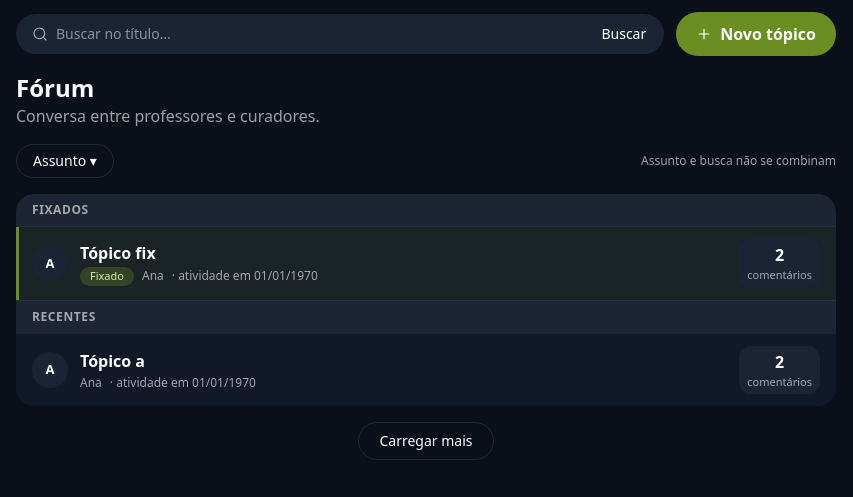
Test case: TopicListPage › Carregar mais busca a próxima página com o cursor
The width and height of the screenshot is (853, 497).
Click the button "Carregar mais" at x=426, y=441, box [358,422,494,460]
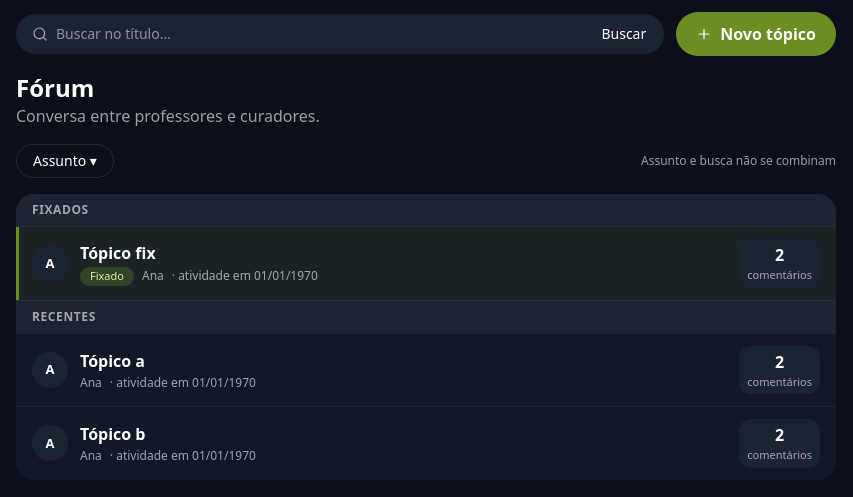
Expected: the link "A Tópico b Ana · atividade em 01/01/1970 2 comentários" is shown, [16,406,836,480]
Expected: the button "Carregar mais" is gone
